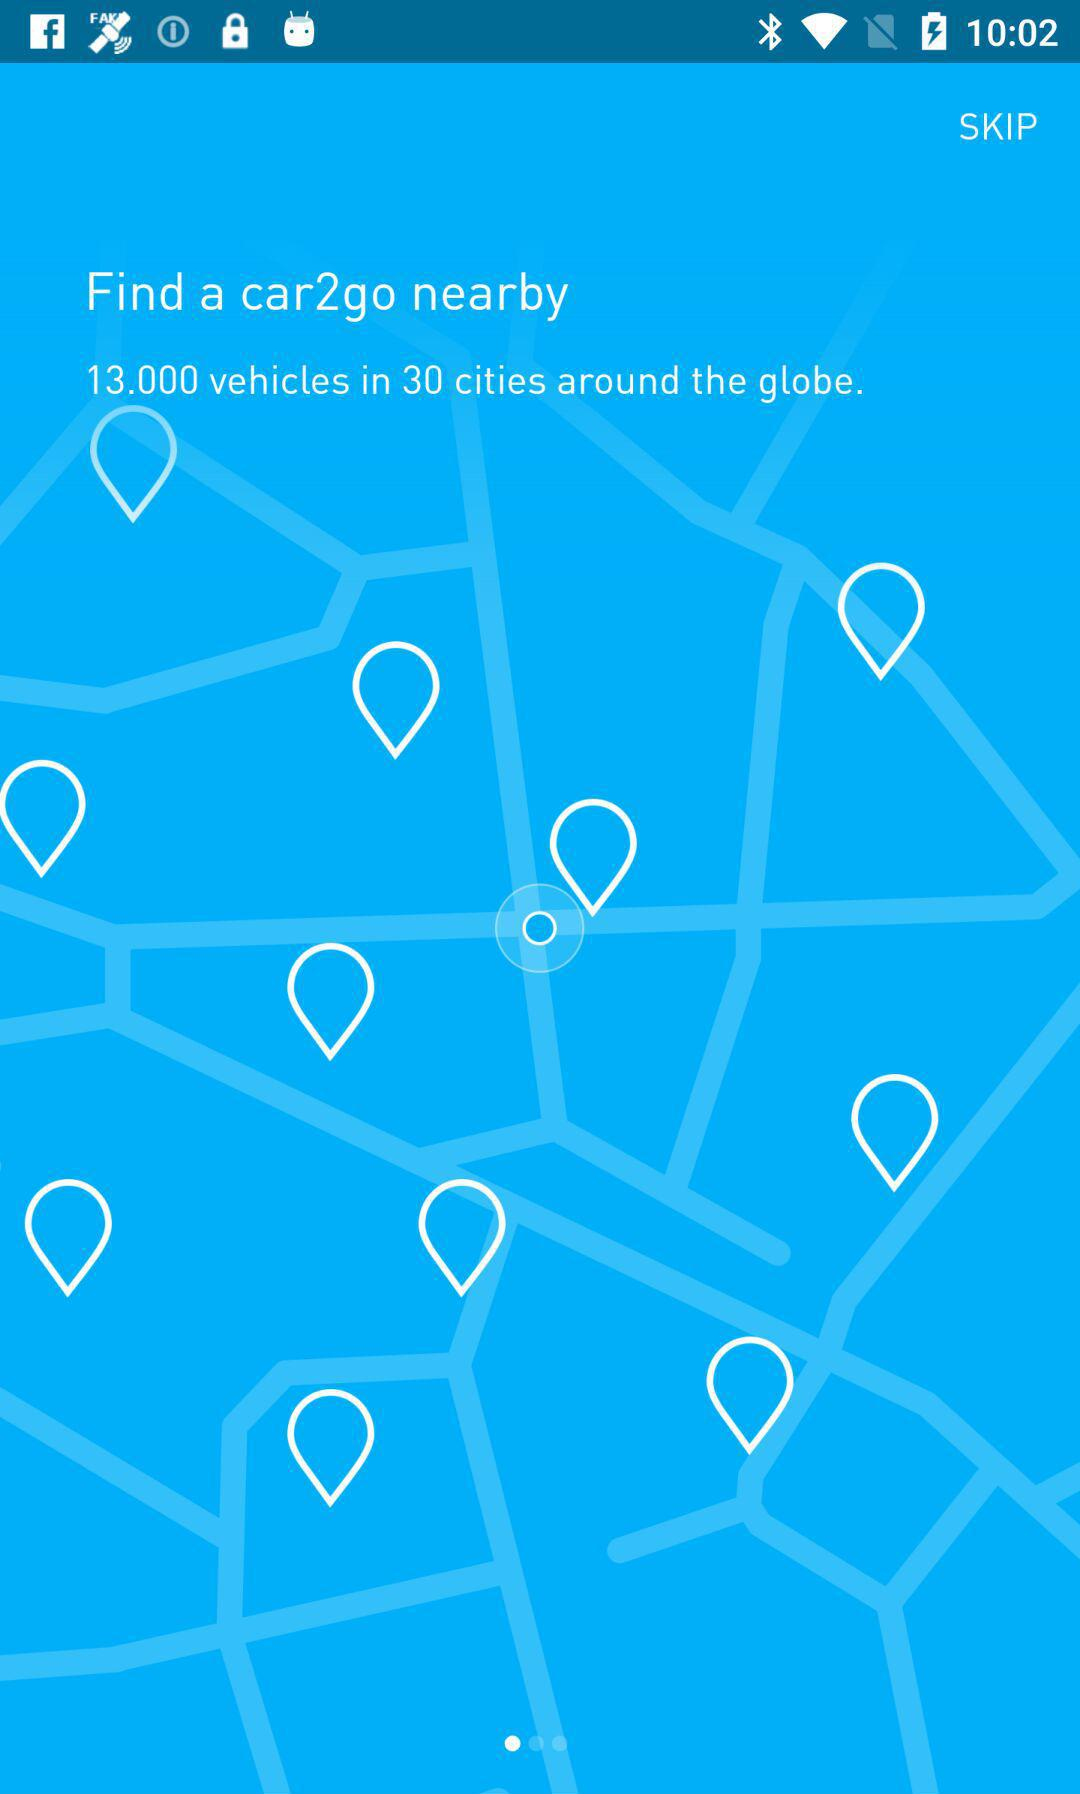BackgroundImage: (1, 64, 1080, 1794)
PageIndicator: (503, 1732, 570, 1754)
Text: (88, 361, 863, 406), (88, 270, 569, 323), (960, 111, 1038, 144)
UpperTaskBar: (1, 1, 1080, 64)
